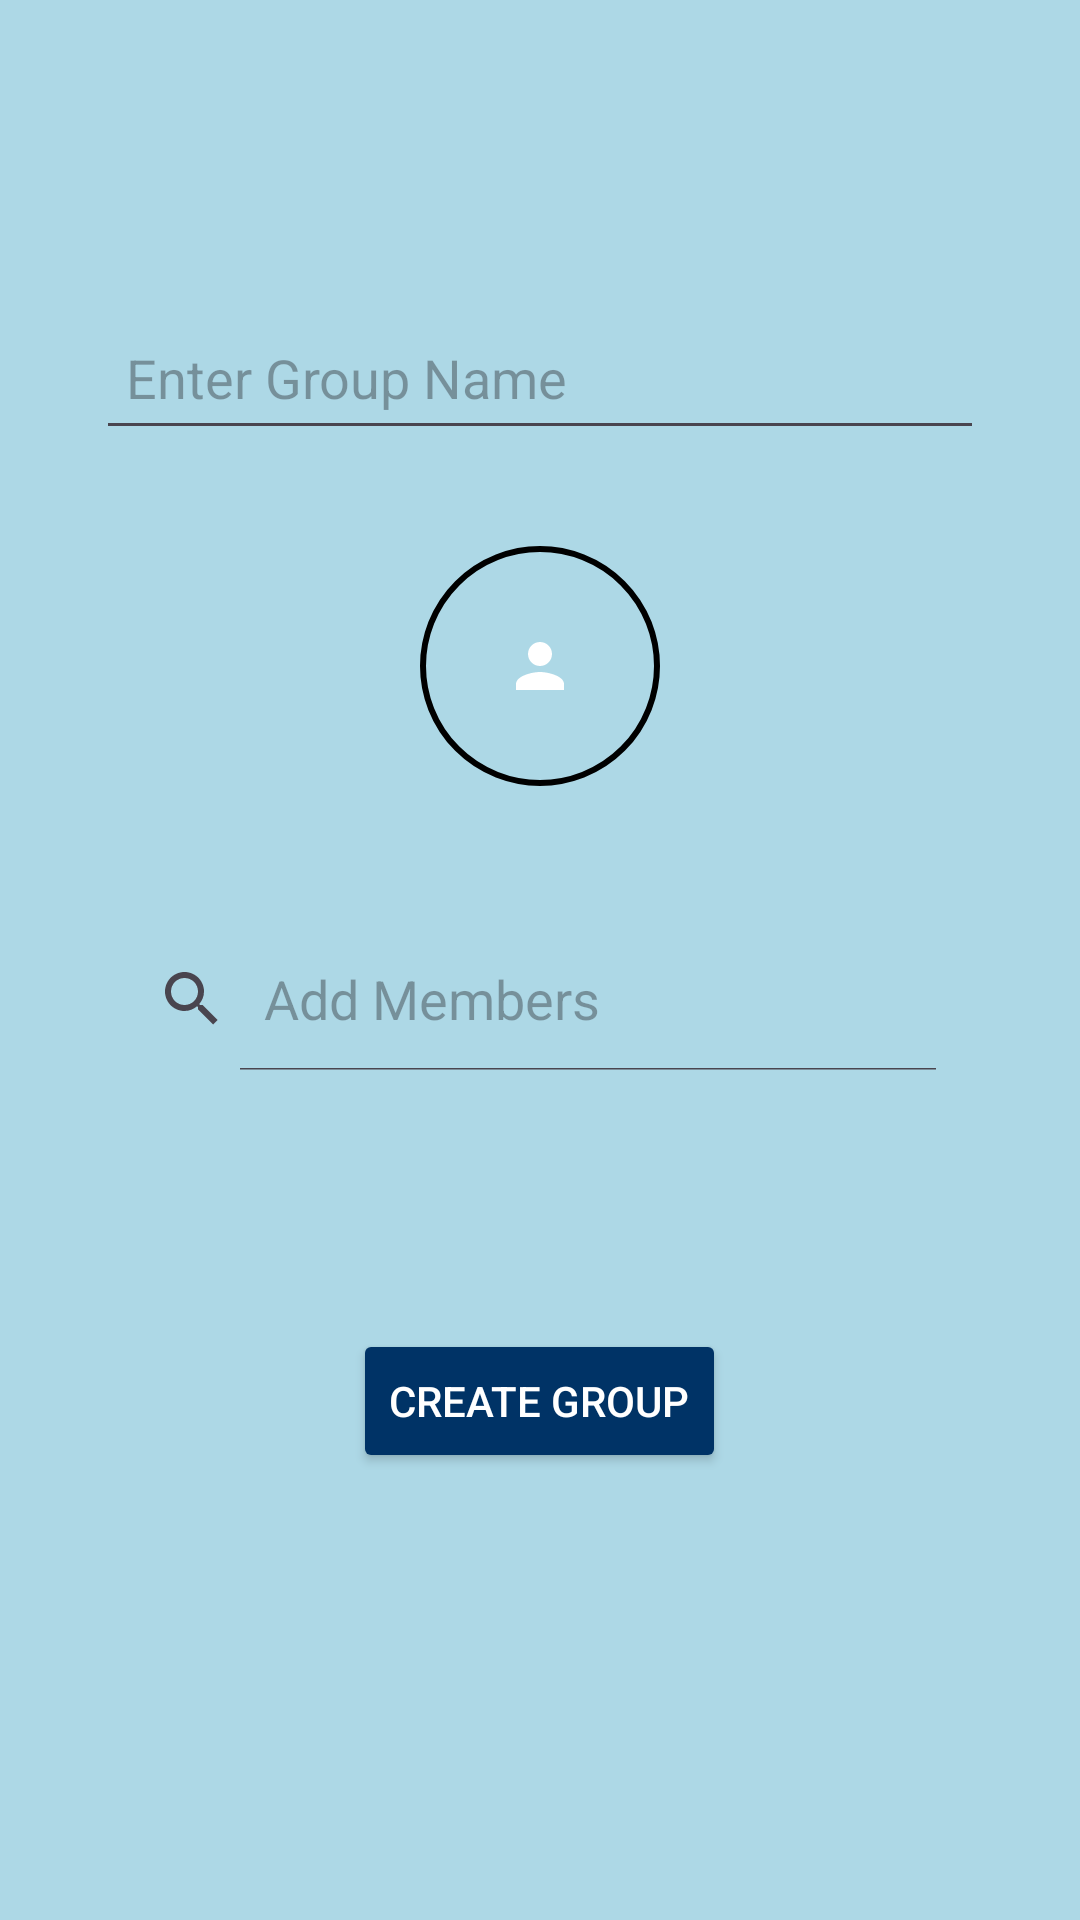

Icon click points for this 1080px x 1920px phone screenshot, format (x,y):
Select Group Image: (540,666)
